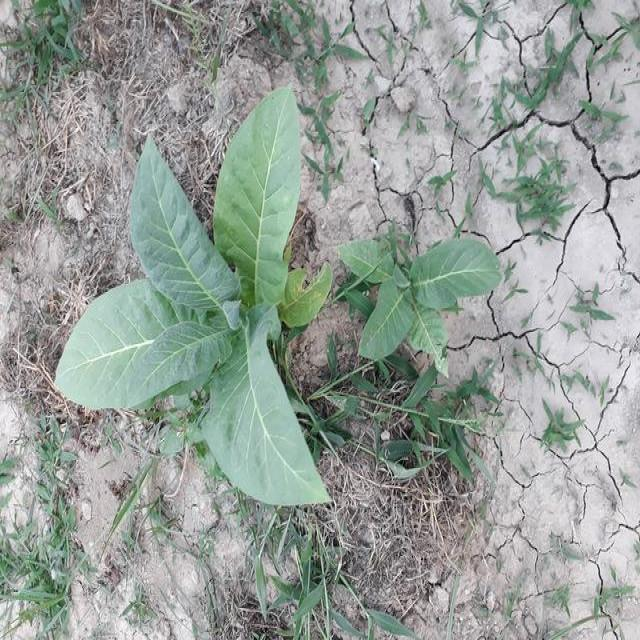crop: (59, 89, 344, 532)
